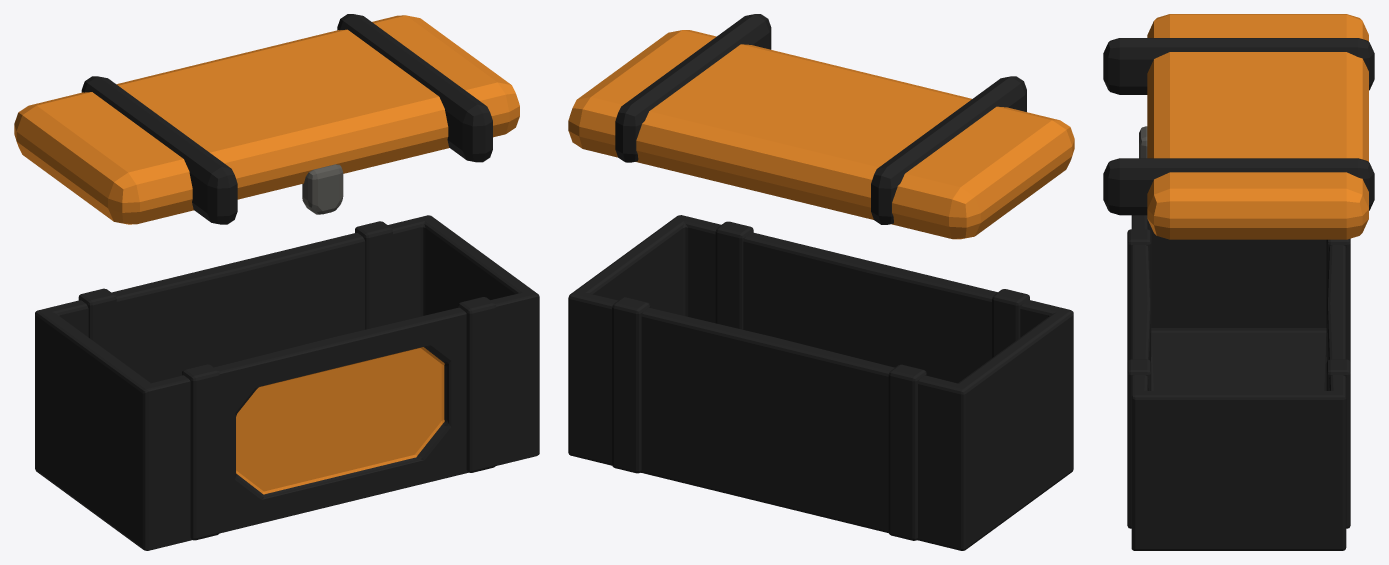
The model's file is syndykys (2).fbx.
3 renders of one model, left to right at view 1: azimuth 30°, elevation 25°; view 2: azimuth 150°, elevation 25°; view 3: azimuth 270°, elevation 25°, orthographic. The views are drawn at different scales.
Visible parts, largest first — view 1: Cube.009, Cube.005, Cube.006; view 2: Cube.009, Cube.005, Cube.006; view 3: Cube.009, Cube.005, Cube.006.
Boxes of the visible parts, box(x1,y1,x2,y2) form: Cube.009: box(35, 215, 539, 550); Cube.005: box(14, 14, 519, 224); Cube.006: box(78, 221, 496, 540); Cube.009: box(568, 215, 1073, 550); Cube.005: box(568, 14, 1074, 239); Cube.006: box(612, 221, 1029, 540); Cube.009: box(1131, 215, 1346, 550); Cube.005: box(1103, 14, 1374, 239); Cube.006: box(1127, 229, 1350, 528).
Size of the model in its own units: 205 by 177 by 121.
